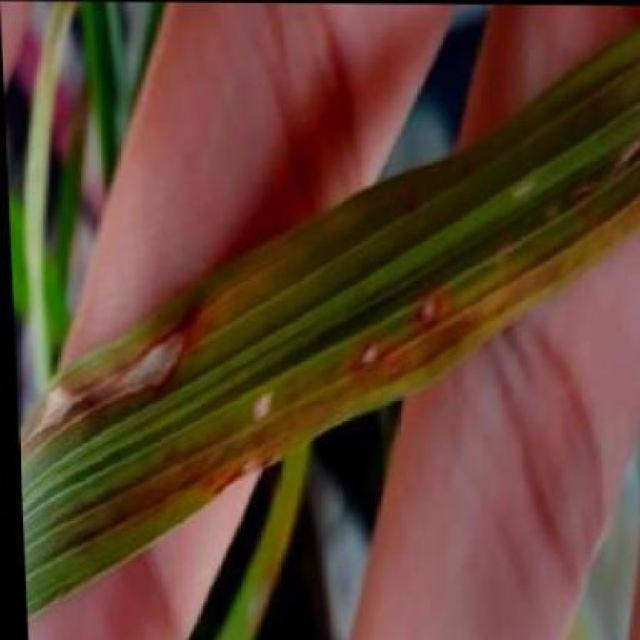Bacterial_Leaf_Blight: (93, 284, 204, 425), (19, 350, 116, 472), (406, 268, 466, 346), (351, 326, 409, 406), (597, 115, 640, 192), (238, 382, 285, 438), (485, 228, 526, 277)
